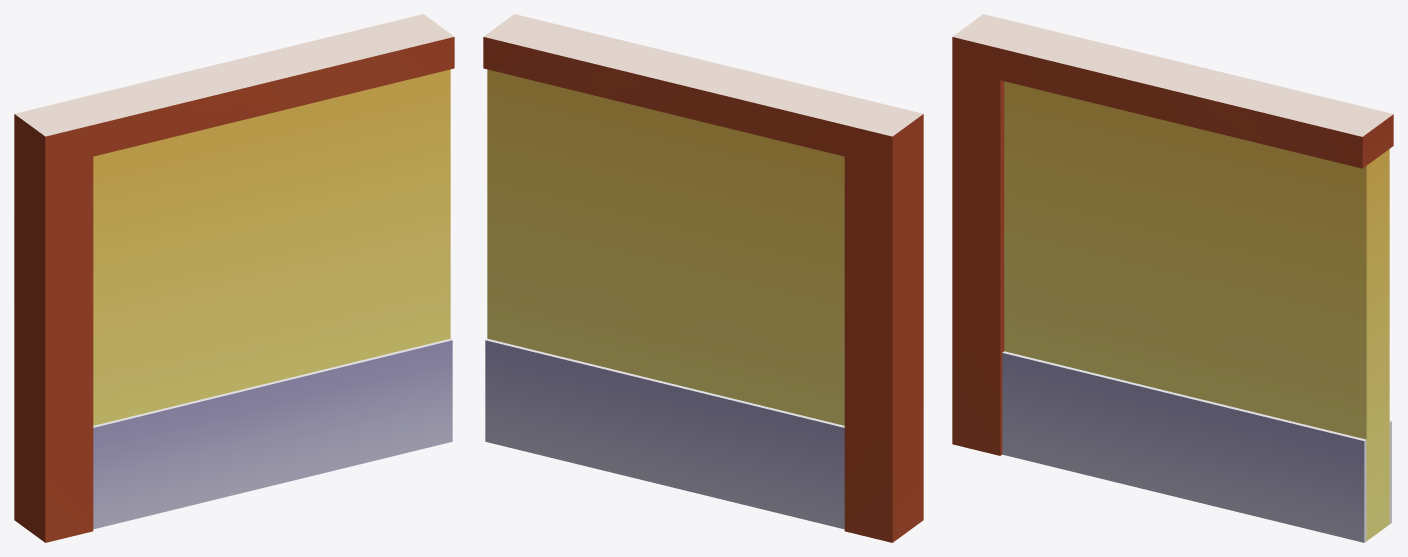
The model's file is M1_Wall_01_1.fbx.
3 renders of one model, left to right at view 1: azimuth 30°, elevation 25°; view 2: azimuth 150°, elevation 25°; view 3: azimuth 330°, elevation 25°, orthographic.
Parts seen in each view (by area): view 1: M1_Wall_01_1; view 2: M1_Wall_01_1; view 3: M1_Wall_01_1.
Boxes of the visible parts, box(x1,y1,x2,y2) form: M1_Wall_01_1: box(14, 14, 454, 542); M1_Wall_01_1: box(483, 14, 923, 542); M1_Wall_01_1: box(952, 14, 1393, 542).
Bounding box in the file's own units: 400 × 380 × 52.74.
